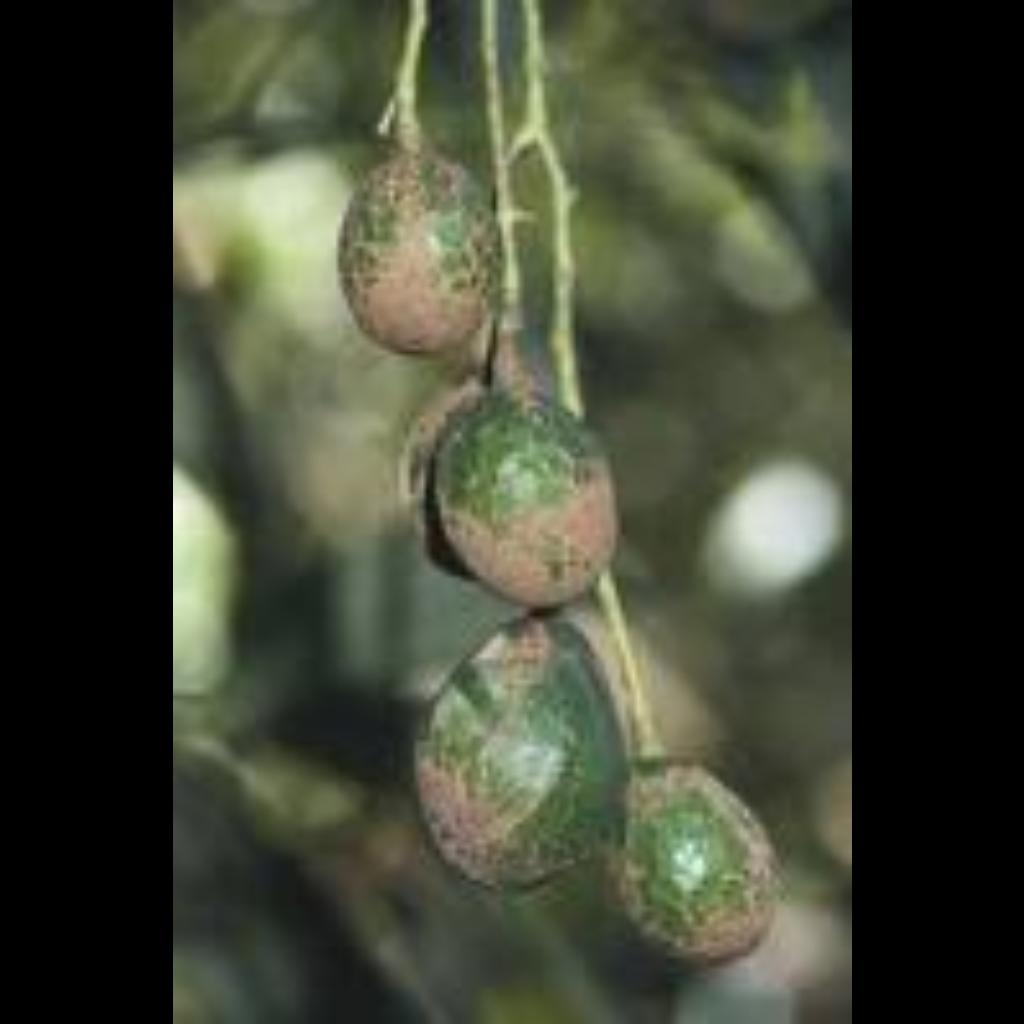cercospora_spot: (427, 608, 803, 962), (326, 140, 630, 576)
